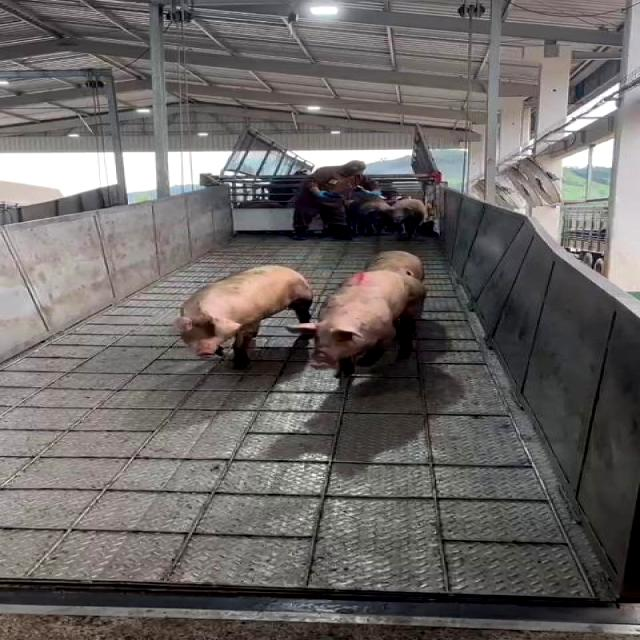pig: (290, 271, 425, 376), (176, 266, 313, 367), (365, 252, 423, 279)
